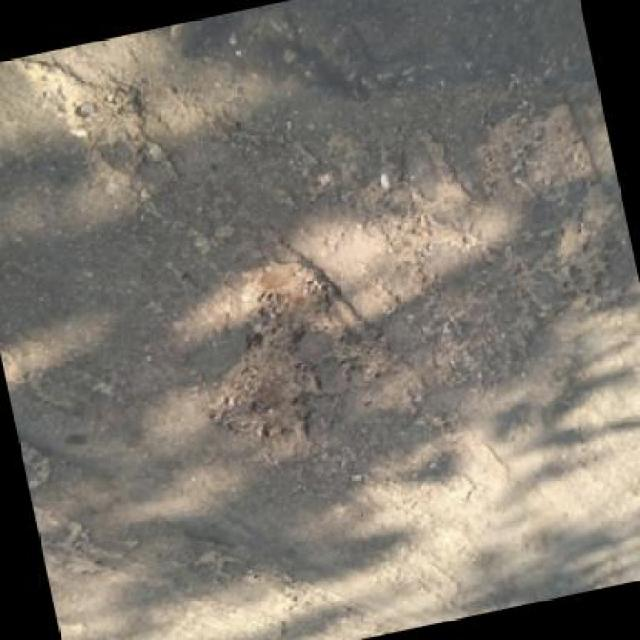pothole1: (6, 37, 156, 163), (192, 340, 334, 458), (226, 248, 343, 352)
